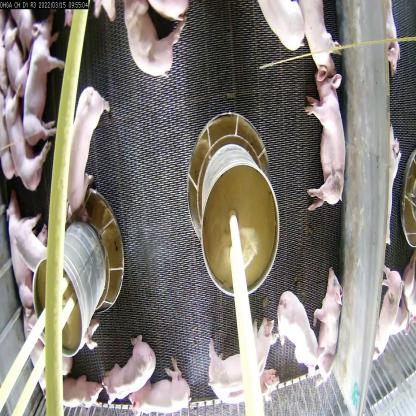Pig: (301, 63, 348, 217), (205, 328, 283, 415), (62, 82, 111, 211), (119, 0, 190, 82), (23, 15, 65, 134), (268, 288, 317, 385), (5, 84, 50, 189), (308, 271, 349, 386), (287, 0, 337, 79), (1, 202, 37, 310), (101, 332, 155, 402), (136, 356, 198, 416), (266, 0, 305, 54)
